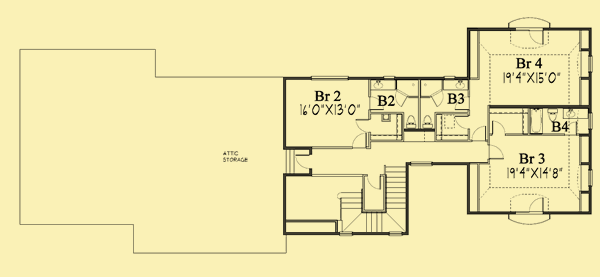door: (528, 27, 548, 45), (292, 152, 313, 169), (489, 142, 506, 162), (351, 133, 368, 150), (470, 125, 487, 141), (394, 89, 407, 109), (530, 195, 544, 213), (431, 89, 444, 108), (354, 117, 370, 132), (453, 112, 468, 128), (492, 118, 505, 135)
large_sink: (420, 112, 434, 132), (545, 108, 560, 123), (404, 113, 416, 131)
small_sink: (371, 79, 398, 91), (442, 80, 467, 90)
stairs: (339, 165, 406, 235)
tub: (528, 106, 542, 135)
windows: (311, 73, 350, 83), (410, 160, 436, 168), (584, 112, 594, 132), (586, 166, 594, 187), (586, 55, 593, 72)
